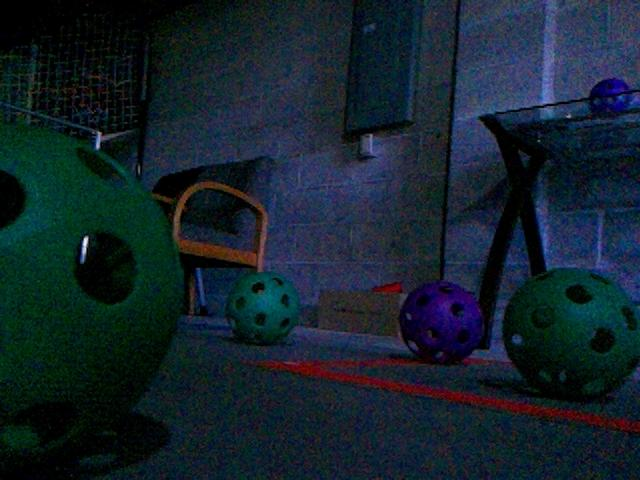Green: (0, 118, 185, 472), (498, 267, 639, 398), (223, 270, 300, 345)
Purple: (396, 279, 485, 364), (588, 78, 631, 115)
